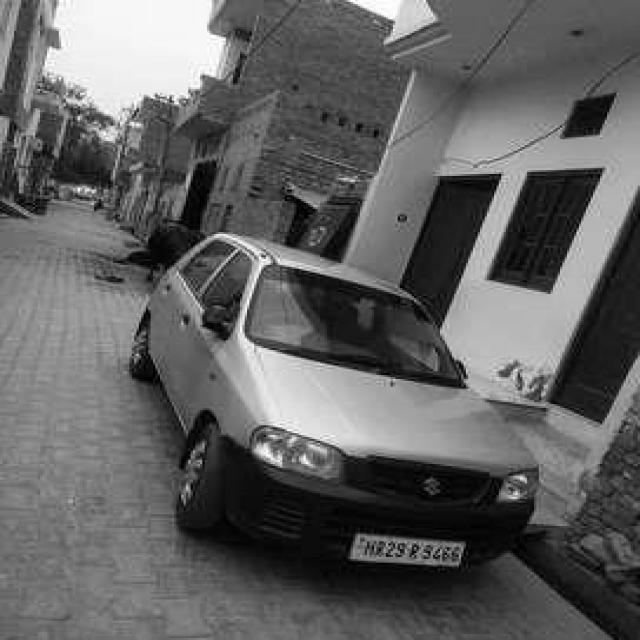car: (139, 219, 555, 580)
license-plate: (353, 534, 471, 574)
